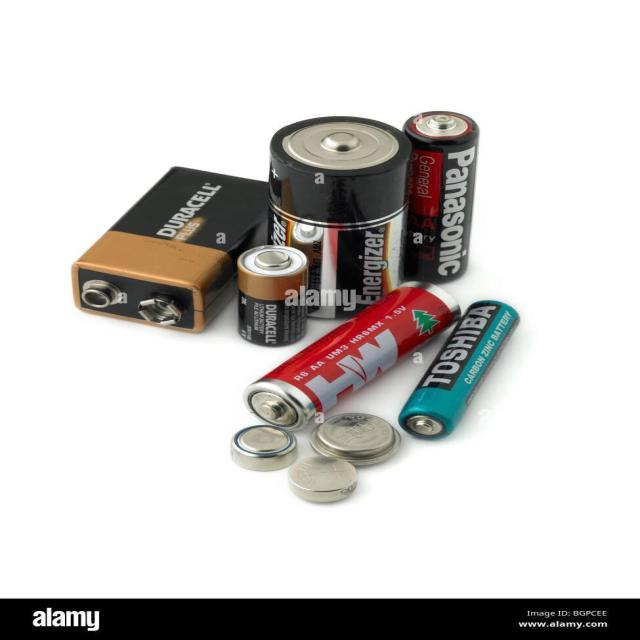AA: (395, 297, 524, 444)
COIN: (307, 411, 403, 468), (228, 422, 303, 473), (287, 454, 358, 505)
